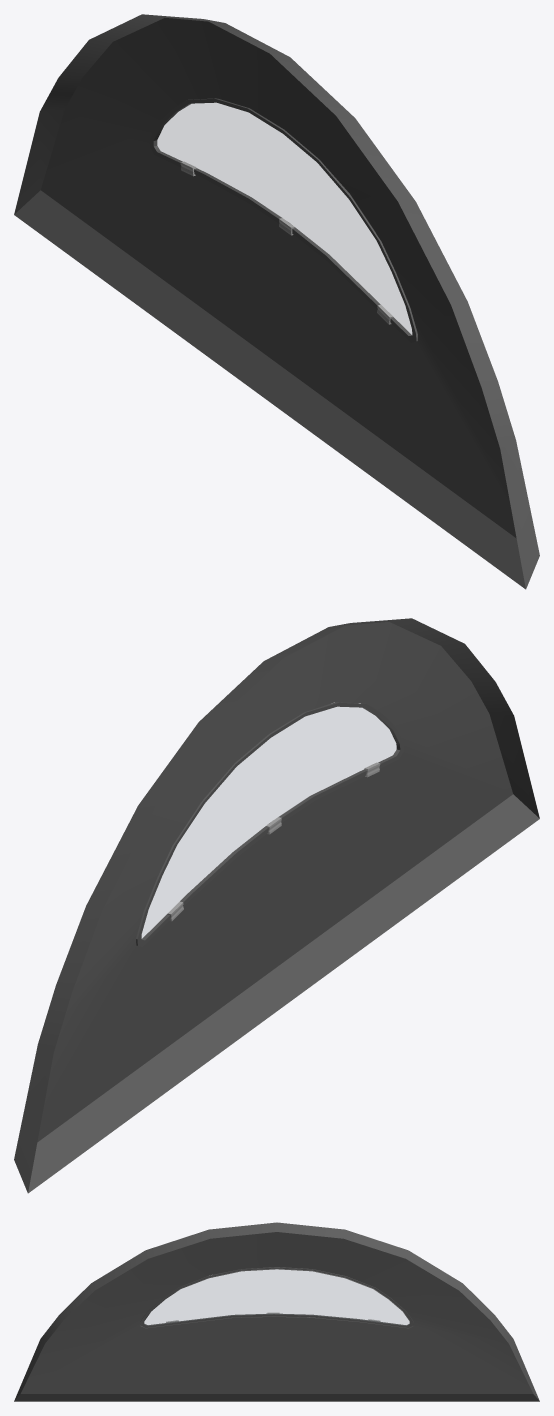
Rendered from right_wall and window.fbx.
3 renders of one model, top to bottom at view 1: azimuth 30°, elevation 25°; view 2: azimuth 150°, elevation 25°; view 3: azimuth 270°, elevation 25°, orthographic. The views are drawn at different scales.
Parts seen in each view (by area): view 1: polySurface256, polySurface255; view 2: polySurface256, polySurface255; view 3: polySurface256, polySurface255.
Part boxes in pixels (x1,y1,x2,y2): polySurface256: (14, 14, 539, 589); polySurface255: (158, 103, 411, 333); polySurface256: (14, 618, 539, 1193); polySurface255: (142, 707, 395, 937); polySurface256: (14, 1222, 539, 1401); polySurface255: (145, 1270, 409, 1325).
Size of the model in its own units: 0.274 by 4.48 by 11.93.
